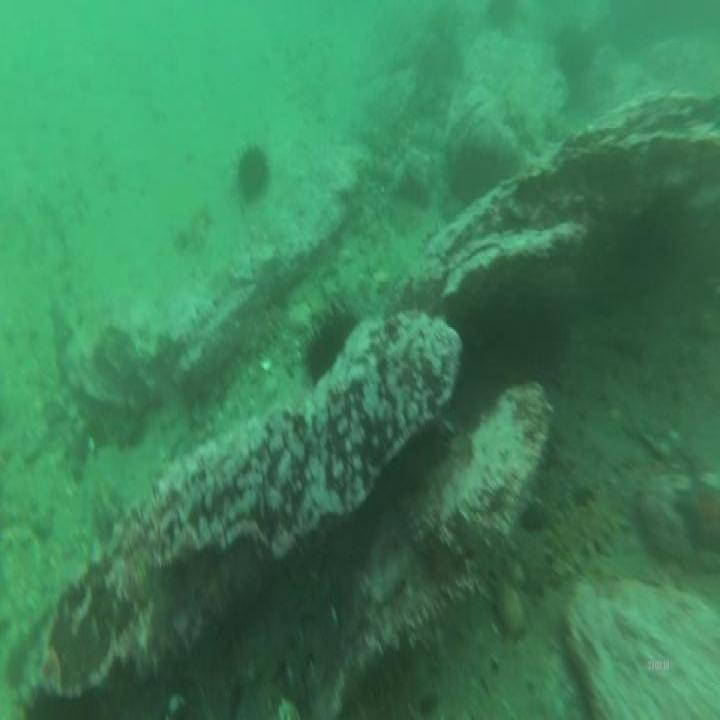echinus: (310, 313, 354, 371), (452, 144, 499, 196), (555, 18, 590, 80), (238, 148, 267, 198)
holothurian: (547, 496, 624, 576)
